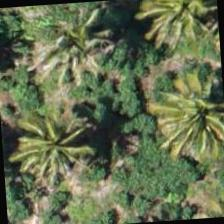Kelapa_Sawit: (28, 4, 124, 100), (0, 101, 88, 198), (149, 77, 223, 174), (129, 0, 221, 72)
